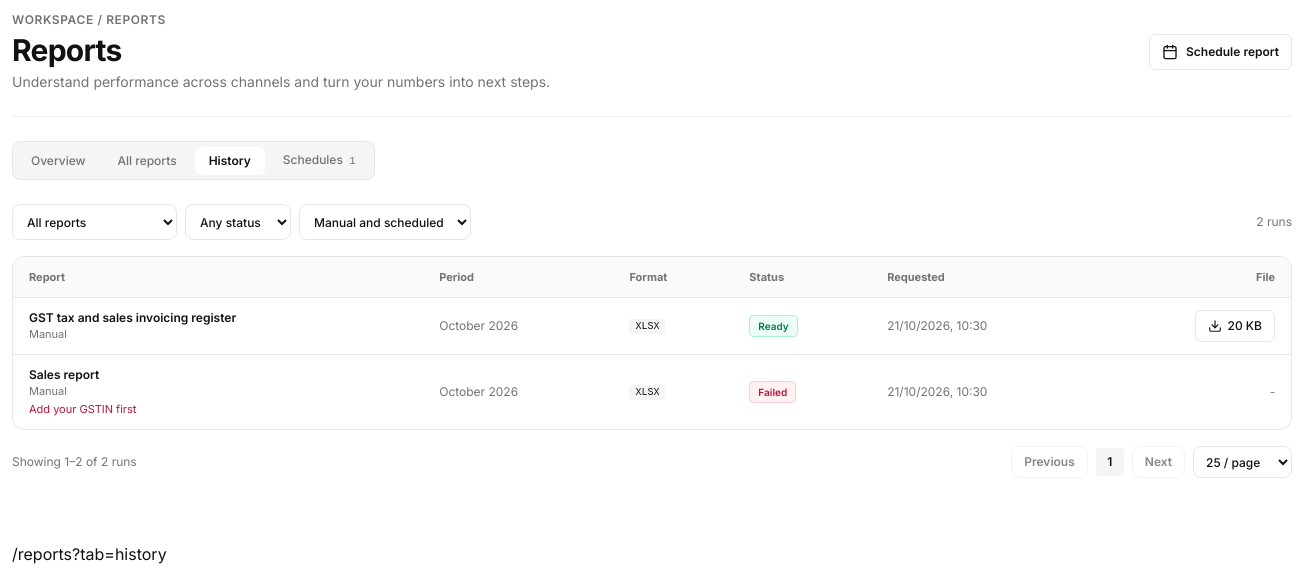
it: ReportsPage: history › lists runs with their status, filters through the URL and downloads a kept file
Expected: the text "Add your GSTIN first" is shown, [29,402,136,416]
Click the button with aria-label "Download gst-register-2026-10.xlsx" at (1235, 326), box [1194,310,1275,342]
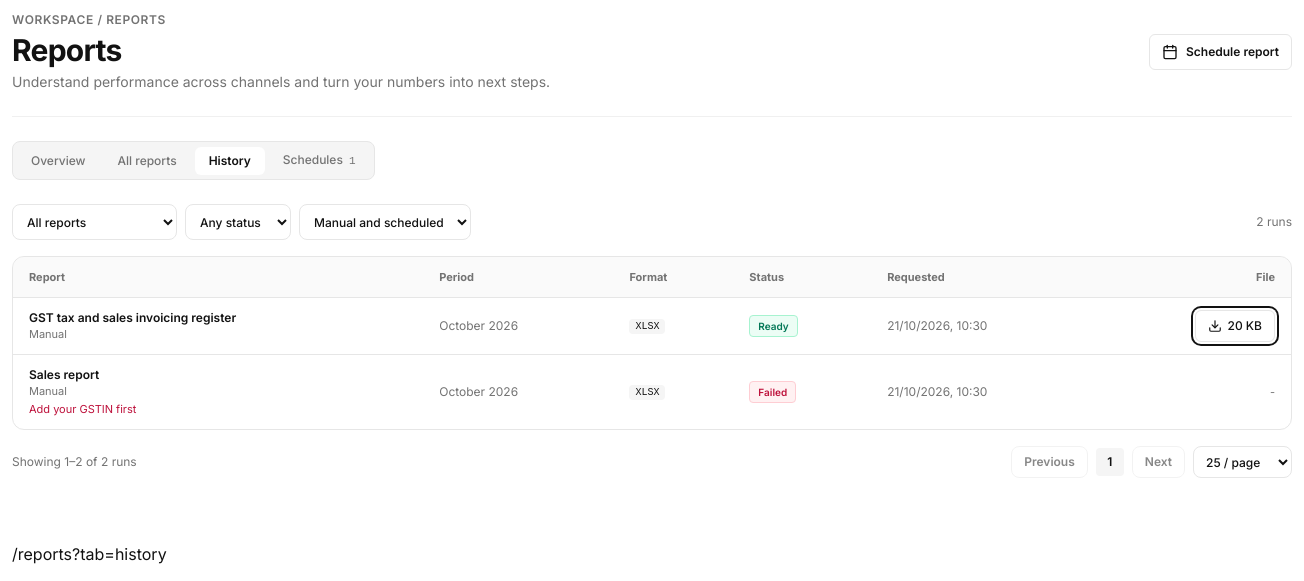
Select "Failed" in the dropdown named "Status" at (238, 222), box [185,204,291,240]
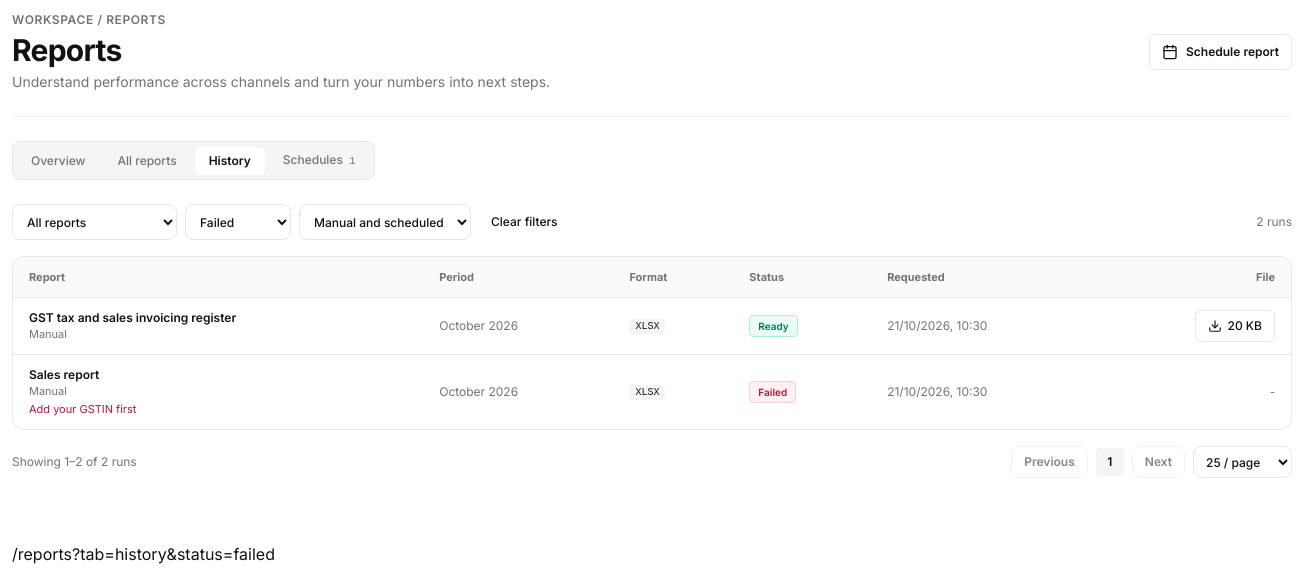
Expected: the text with test id "loc" reads "/reports?tab=history&status=failed", [12,544,275,564]
